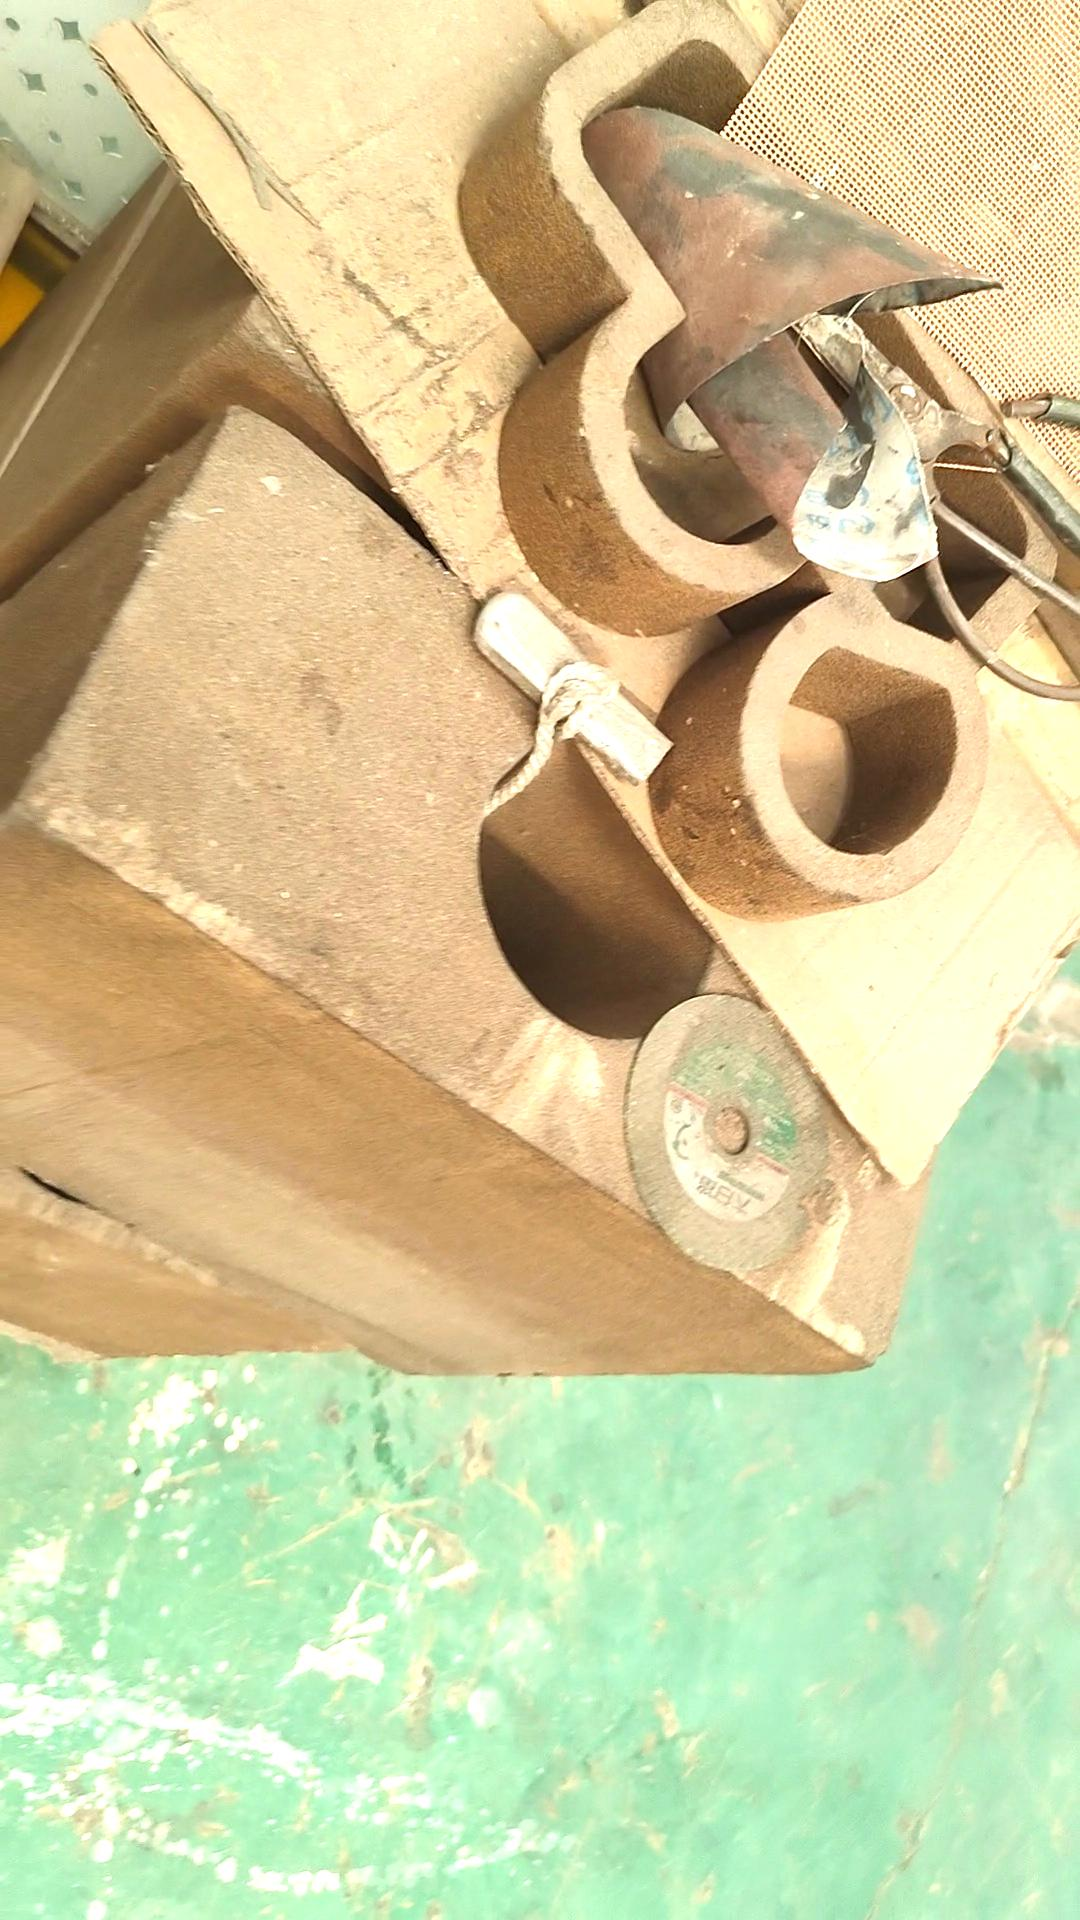pouring hole: (477, 733, 717, 1040)
